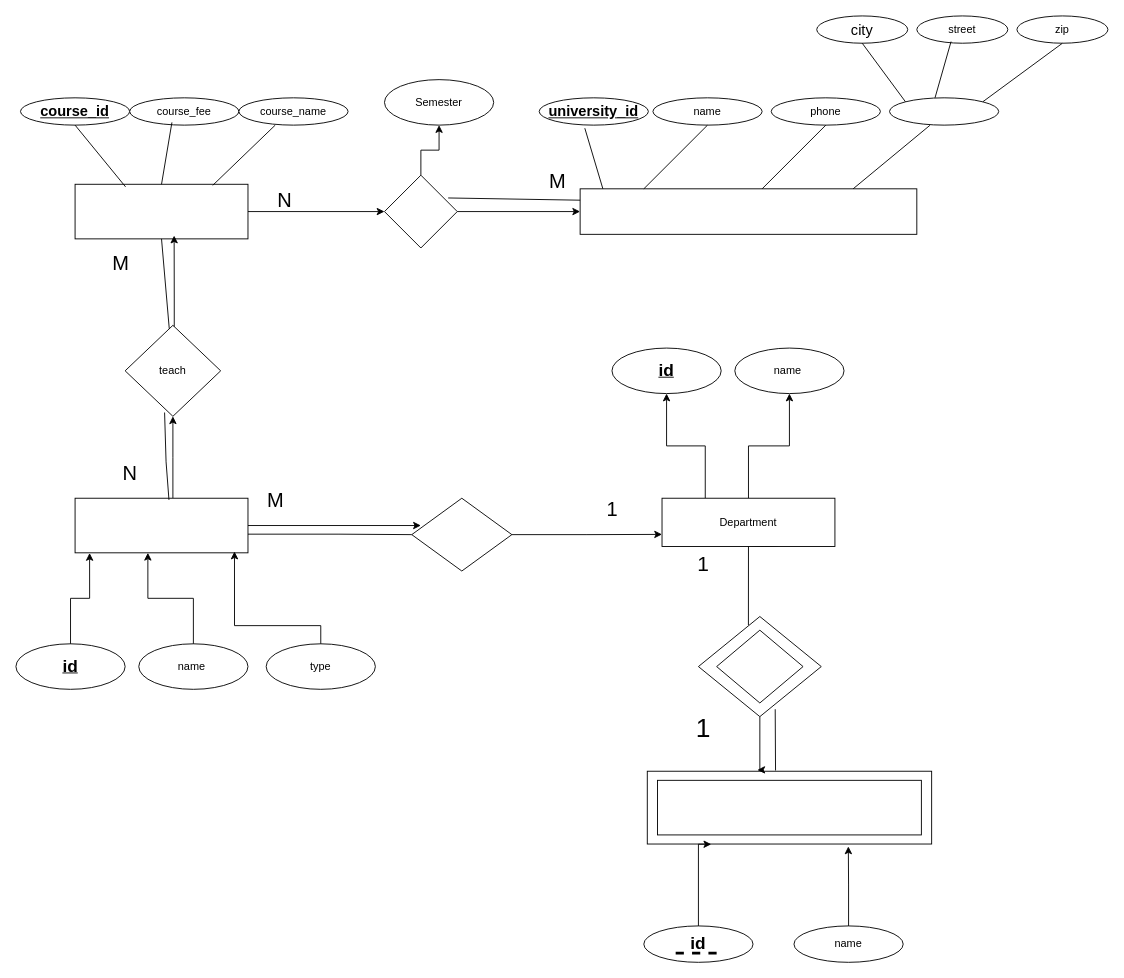
Image size: 1124x978. Some labels were removed from this diagram. The shapes that lost their labels are listed below. From the top down, each one's centre as x and y in pixels, then its label:
At point 944,111: "address".
At point 161,211: "courses".
At point 420,211: "takes".
At point 748,211: "students".
At point 161,525: "teacher".
At point 461,534: "belongs to".
At point 759,666: "manage".
At point 789,807: "Chairman".
